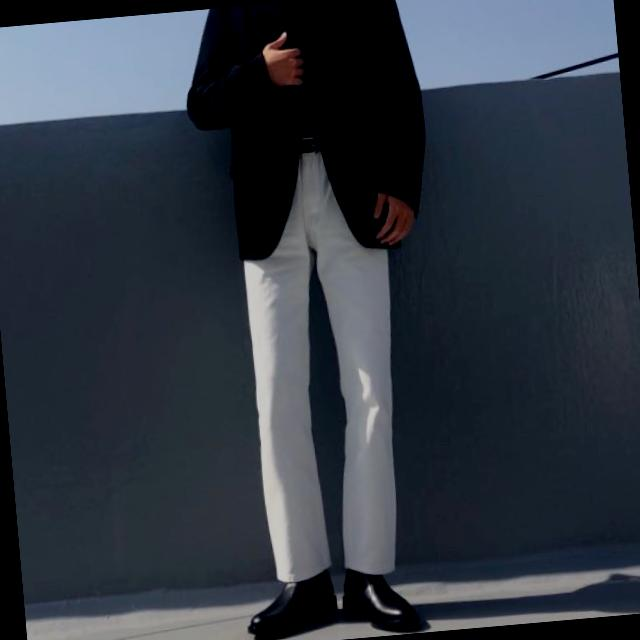blazer: (177, 0, 435, 266)
denimpants: (232, 128, 418, 588)
